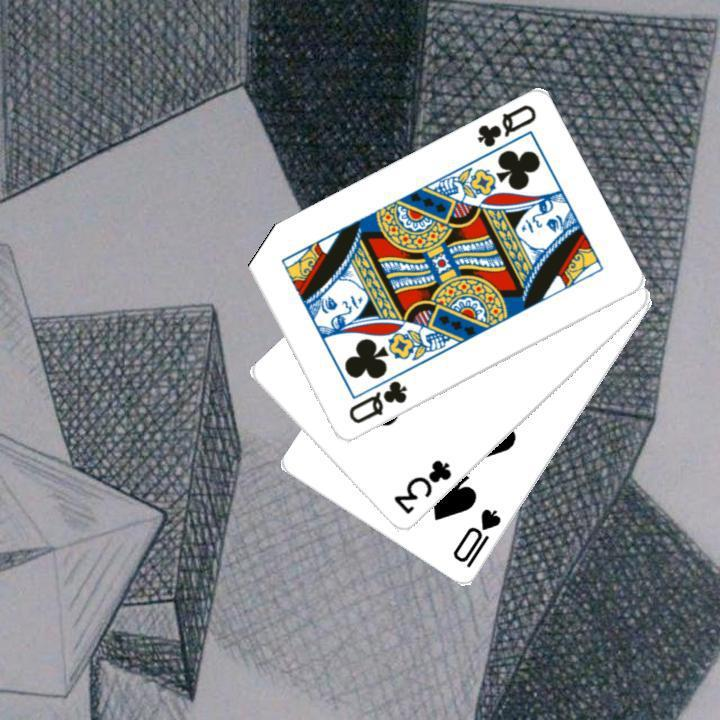10: (448, 504, 504, 571)
3: (389, 456, 454, 517)
Q: (344, 376, 409, 427), (472, 100, 538, 150)
